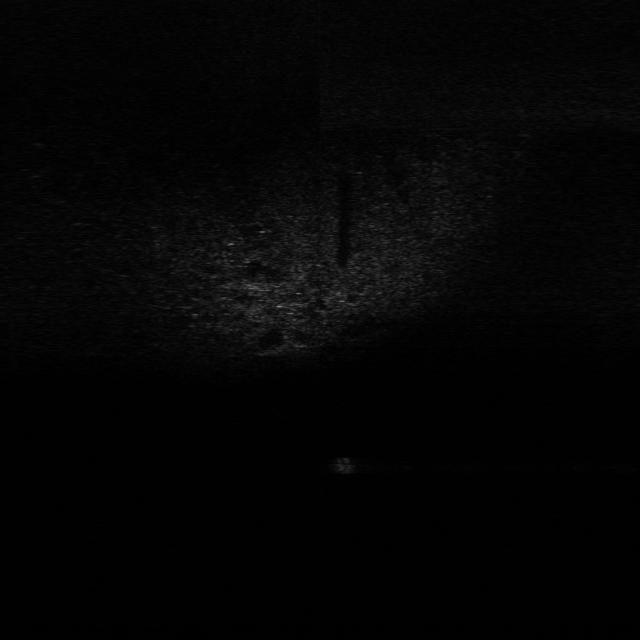cylinder: (330, 454, 360, 475)
